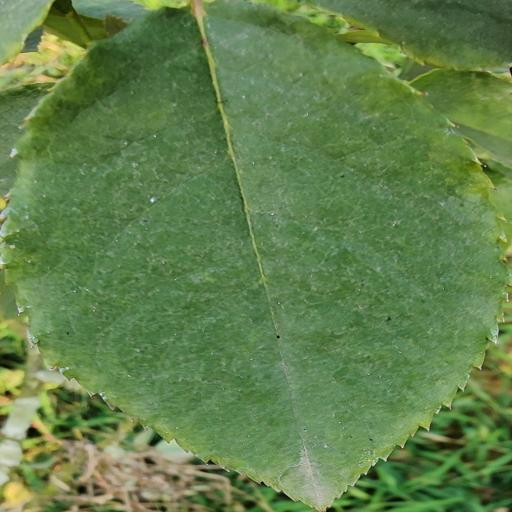healthy_leaf: (2, 2, 507, 508)
